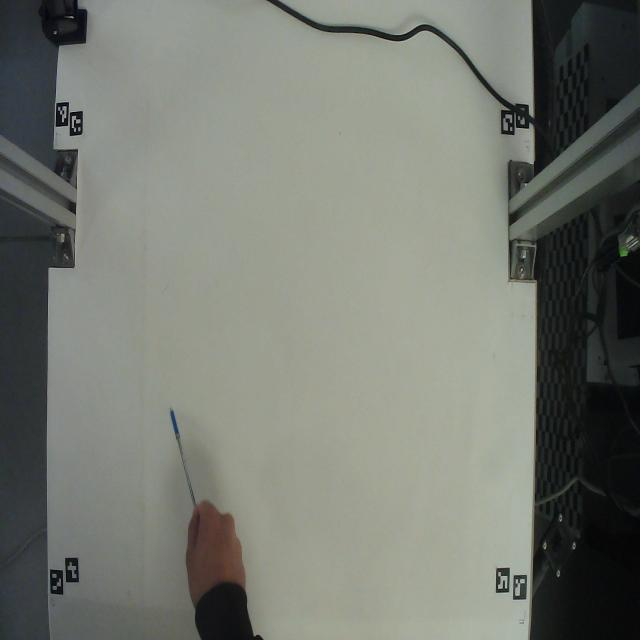Pres: (158, 374, 230, 531)
